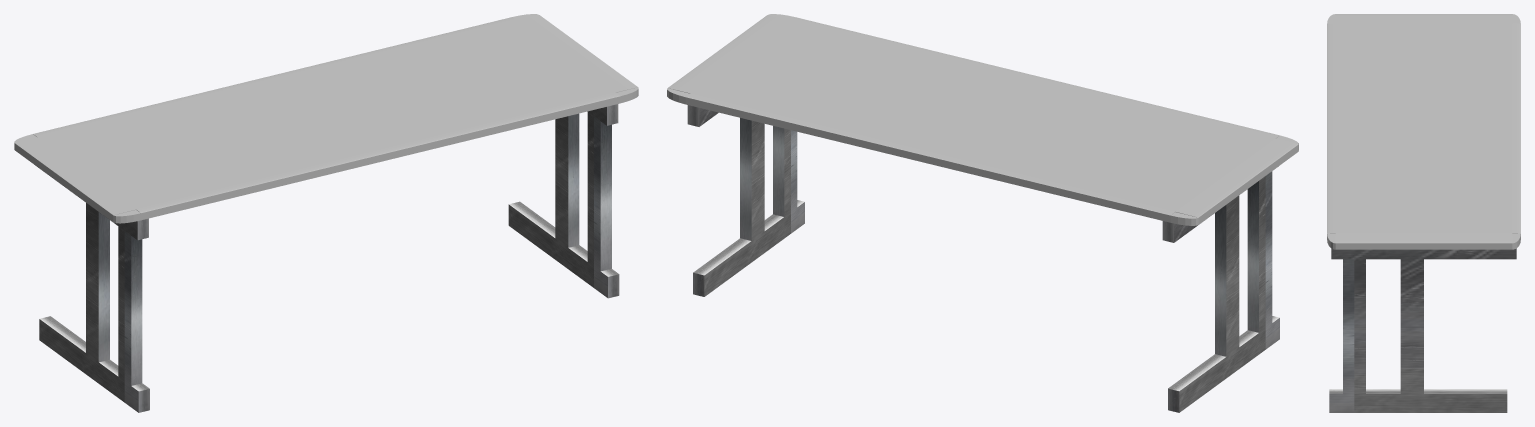
File: table_default.fbx
The picture shows the model from 3 angles, left to right: view 1: azimuth 30°, elevation 25°; view 2: azimuth 150°, elevation 25°; view 3: azimuth 270°, elevation 25°; orthographic projection. The views are drawn at different scales.
Parts seen in each view (by area): view 1: Table_body, Cube.002, Cube.001; view 2: Table_body, Cube.002, Cube.001; view 3: Table_body, Cube.001.
Boxes of the visible parts, x1=… form: Table_body: x1=14, y1=14, x2=638, y2=223; Cube.002: x1=38, y1=167, x2=149, y2=412; Cube.001: x1=508, y1=104, x2=619, y2=298; Table_body: x1=667, y1=14, x2=1298, y2=225; Cube.002: x1=1162, y1=166, x2=1279, y2=412; Cube.001: x1=687, y1=105, x2=804, y2=296; Table_body: x1=1327, y1=14, x2=1520, y2=249; Cube.001: x1=1329, y1=248, x2=1516, y2=412.
Size of the model in its own units: 2800 by 1023 by 1000.
